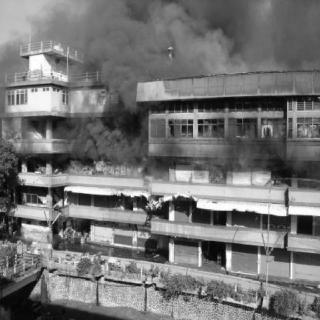Fire: (60, 144, 132, 180), (260, 112, 318, 142), (208, 159, 230, 185)
Smoke: (76, 4, 316, 68)
